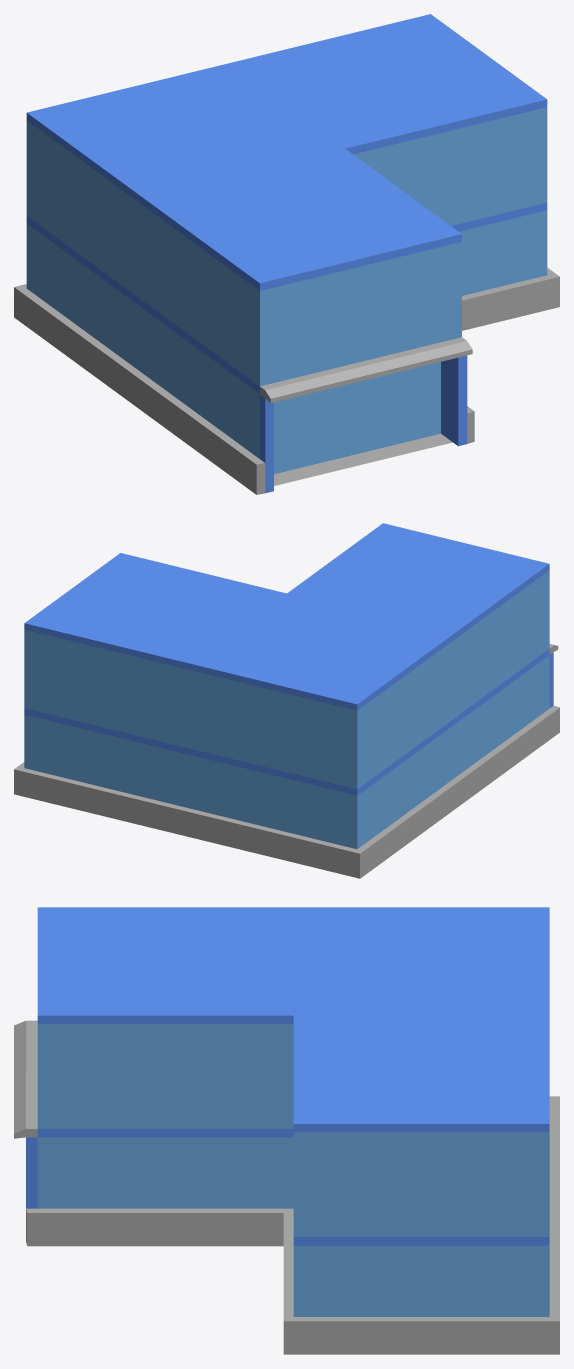
Rendered from building_L_6_g.glb.
3 views of the same model, one above another, from view 1: azimuth 30°, elevation 25°; view 2: azimuth 150°, elevation 25°; view 3: azimuth 270°, elevation 25° (orthographic). The views are drawn at different scales.
Parts seen in each view (by area): view 1: Cube; view 2: Cube; view 3: Cube.
Part boxes in pixels (left/top/right/bottom): Cube: left=14, top=14, right=559, bottom=494; Cube: left=14, top=523, right=559, bottom=878; Cube: left=14, top=907, right=559, bottom=1354.
Bounding box in the file's own units: 3.41 × 1.6 × 3.5.
